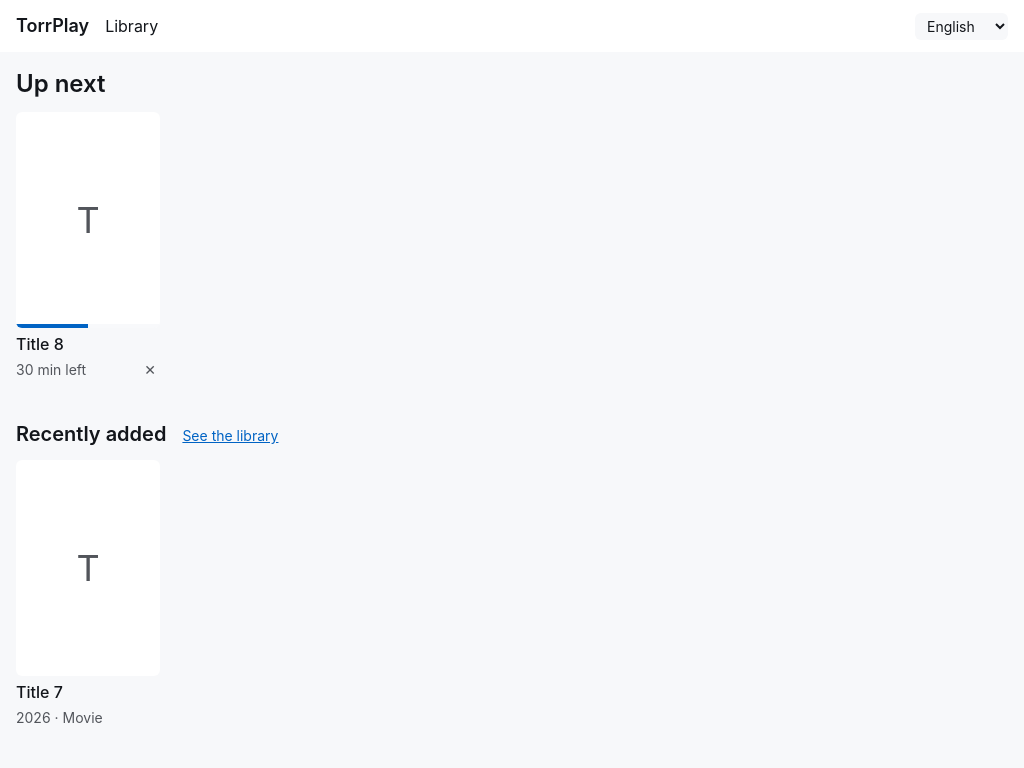
Test: removes a dismissed entry from up next
Click the button named "Remove “Title 8” from up next" at point(150, 370), box [140, 360, 160, 380]
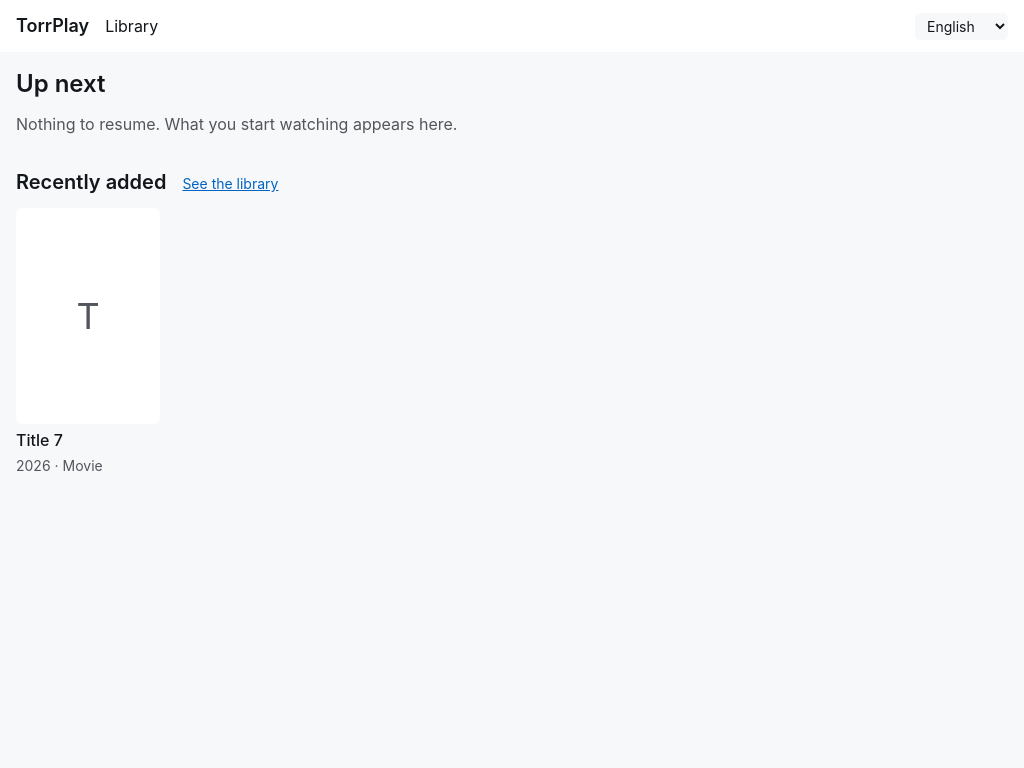
Expected: the text "Nothing to resume. What you start watching appears here." is shown, [16, 114, 457, 134]
